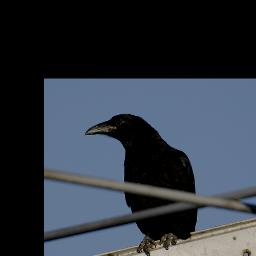Crow: (84, 113, 200, 256)
